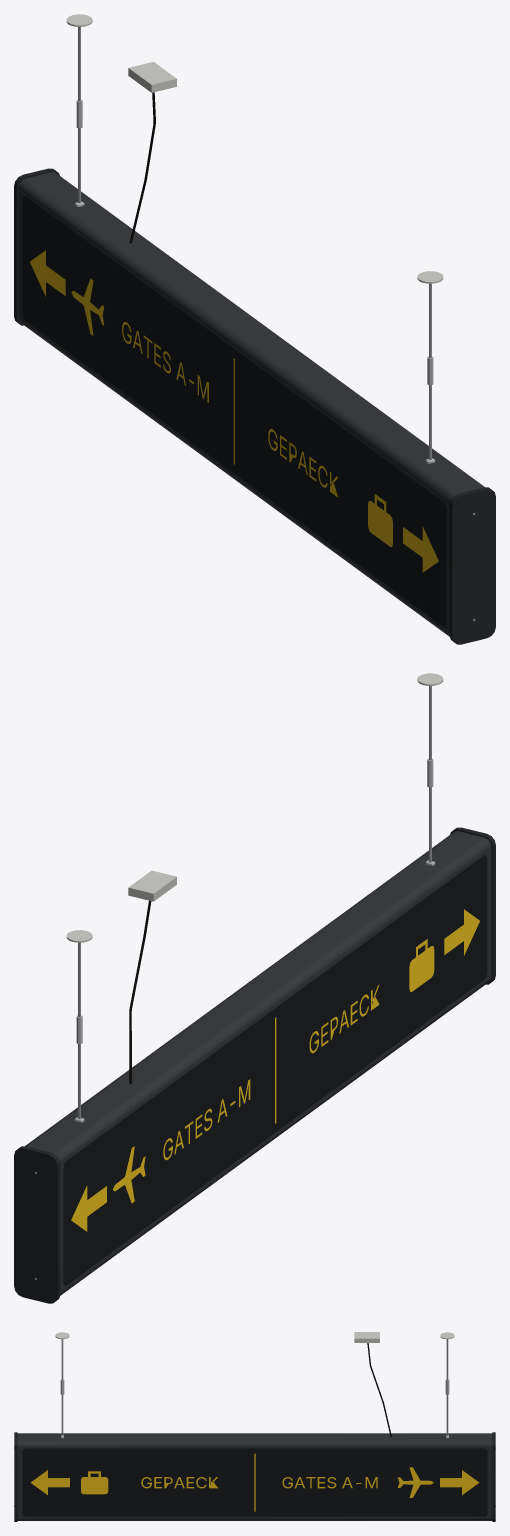
The model's file is sign_36_b.glb.
The picture shows the model from 3 angles, top to bottom: view 1: azimuth 30°, elevation 25°; view 2: azimuth 150°, elevation 25°; view 3: azimuth 270°, elevation 25°; orthographic projection. The views are drawn at different scales.
Parts seen in each view (by area): view 1: wegweiser_3, wegweiser_0, wegweiser_1, wegweiser_4, wegweiser_5, wegweiser_2, gates-x; view 2: wegweiser_3, wegweiser_0, wegweiser_1, wegweiser_4, wegweiser_5, wegweiser_2, gates-x, gep-x; view 3: wegweiser_3, wegweiser_0, wegweiser_4, wegweiser_1, wegweiser_2, wegweiser_5, gates+x, gep+x.
Boxes of the visible parts, <box> form: wegweiser_3: <box>22,196,446,626</box>; wegweiser_0: <box>18,172,484,636</box>; wegweiser_1: <box>14,168,495,644</box>; wegweiser_4: <box>30,250,438,572</box>; wegweiser_5: <box>66,14,443,283</box>; wegweiser_2: <box>78,27,475,621</box>; gates-x: <box>122,322,208,402</box>; wegweiser_3: <box>63,855,487,1285</box>; wegweiser_0: <box>25,831,491,1295</box>; wegweiser_1: <box>14,827,495,1303</box>; wegweiser_4: <box>71,909,479,1231</box>; wegweiser_5: <box>66,673,443,942</box>; wegweiser_2: <box>34,686,431,1280</box>; gates-x: <box>163,1079,250,1160</box>; gep-x: <box>309,984,379,1053</box>; wegweiser_3: <box>22,1448,487,1516</box>; wegweiser_0: <box>17,1433,492,1520</box>; wegweiser_4: <box>30,1453,479,1511</box>; wegweiser_1: <box>14,1432,495,1521</box>; wegweiser_2: <box>14,1339,495,1506</box>; wegweiser_5: <box>55,1332,454,1342</box>; gates+x: <box>282,1477,377,1488</box>; gep+x: <box>141,1477,217,1488</box>.
Bounding box in the file's own units: 0.172 × 1.26 × 3.
